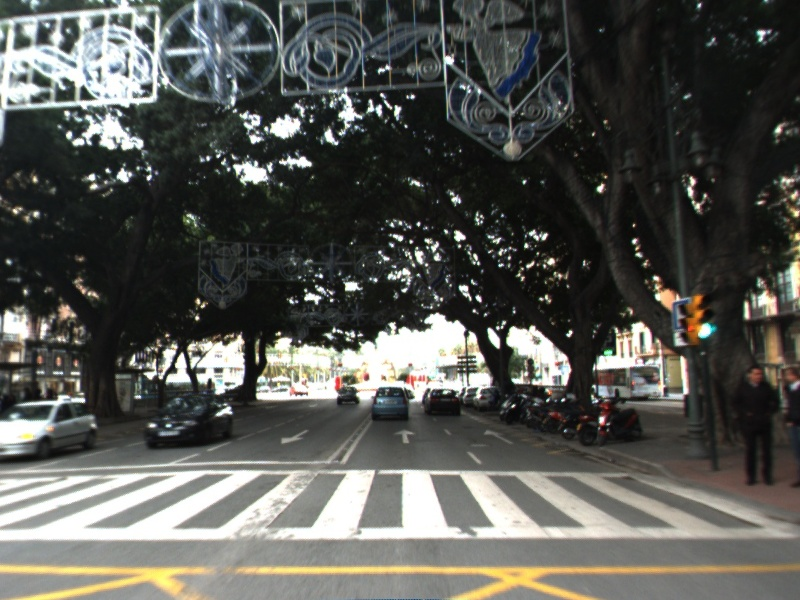STRAIGHT: (482, 427, 516, 447), (392, 427, 418, 445)
